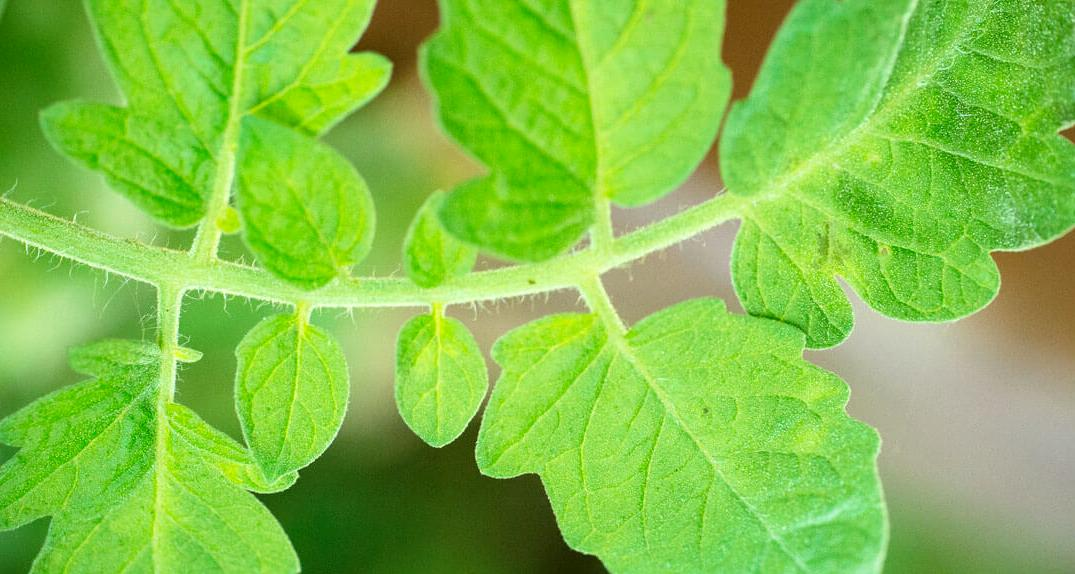Tomato leaf: (495, 276, 889, 574), (739, 0, 1075, 345), (51, 0, 403, 239), (431, 0, 713, 271), (0, 332, 264, 574), (235, 116, 395, 298), (234, 293, 359, 473), (385, 293, 488, 462)
